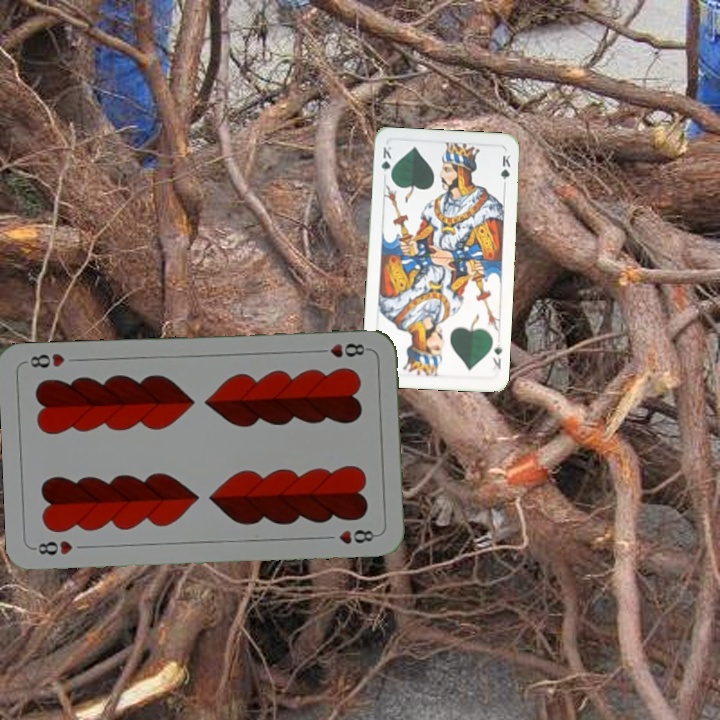GK: (378, 142, 394, 182), (488, 340, 505, 371)
H8: (313, 339, 372, 360), (30, 536, 75, 558)
